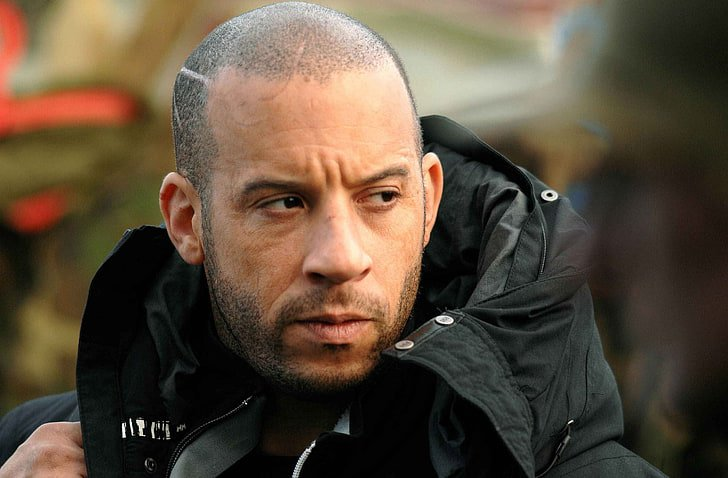noMask: (145, 5, 452, 387)
